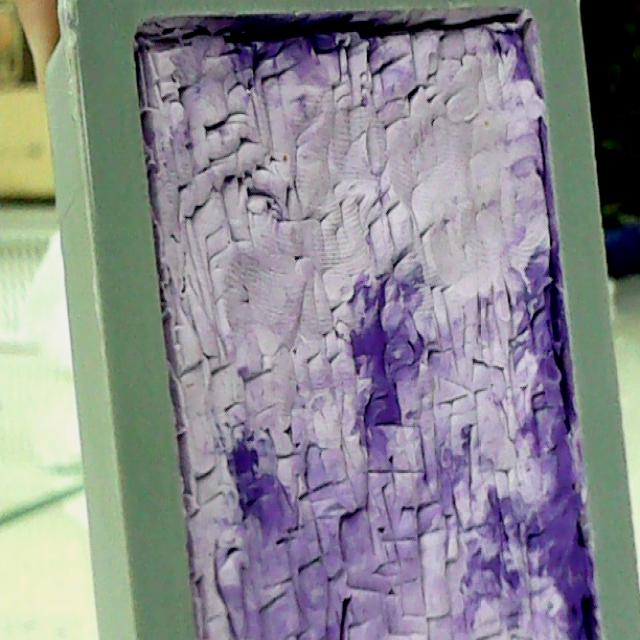block: (42, 4, 640, 640)
